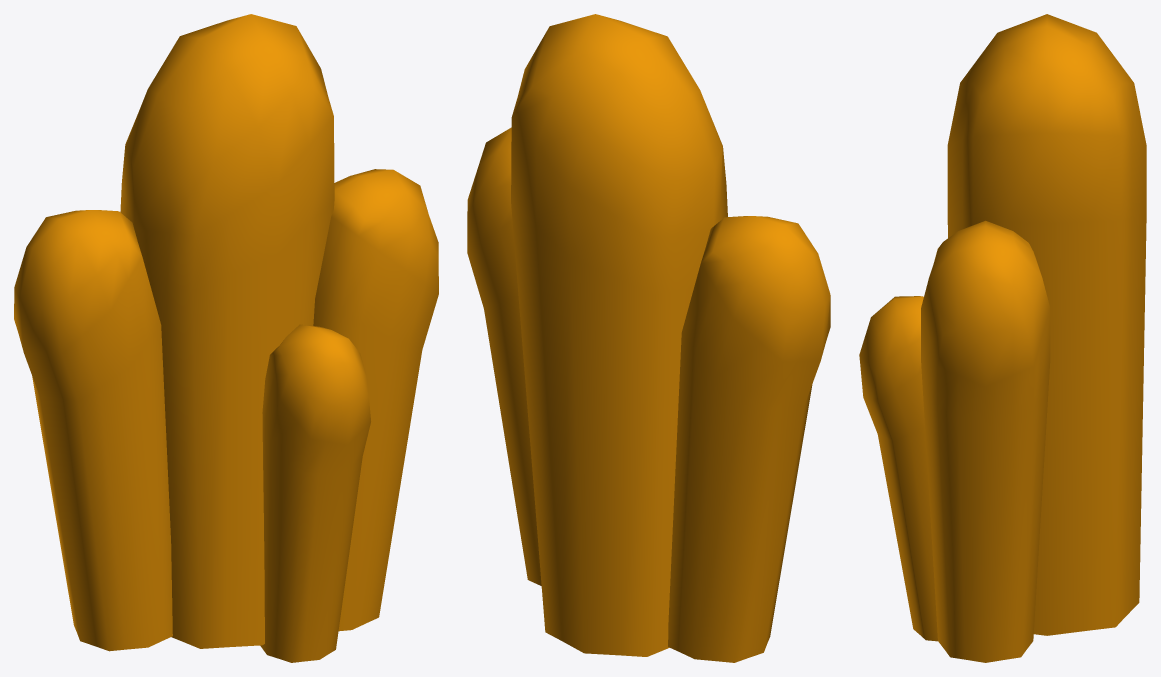
File: StengelPlant.fbx
3 views of the same model, side by side, from view 1: azimuth 30°, elevation 25°; view 2: azimuth 150°, elevation 25°; view 3: azimuth 270°, elevation 25° (orthographic).
Visible parts, largest first — view 1: pCube15; view 2: pCube15; view 3: pCube15.
Boxes of the visible parts, bbox=[...] form: pCube15: bbox=[14, 14, 438, 662]; pCube15: bbox=[467, 14, 830, 662]; pCube15: bbox=[859, 14, 1146, 662].
Bounding box in the file's own units: 0.0378 × 0.0567 × 0.0245.
